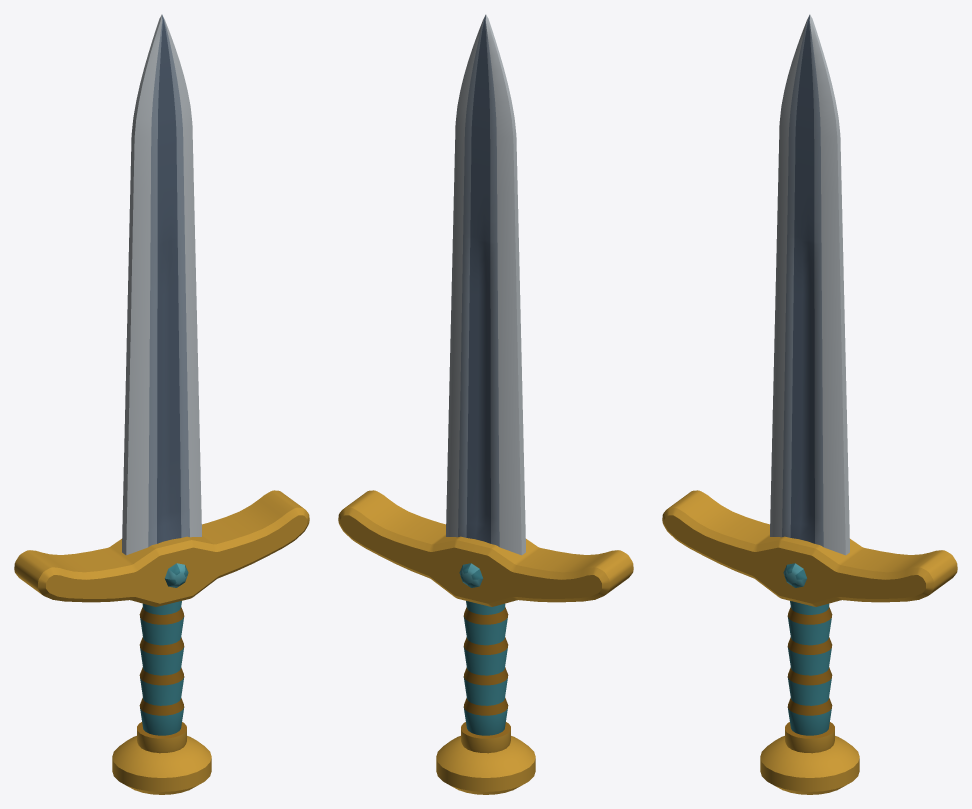
Rendered from Longsword_09.glb.
3 views of the same model, side by side, from view 1: azimuth 30°, elevation 25°; view 2: azimuth 150°, elevation 25°; view 3: azimuth 330°, elevation 25° (orthographic).
Parts seen in each view (by area): view 1: Longsword_09; view 2: Longsword_09; view 3: Longsword_09.
Boxes of the visible parts, <box> form: Longsword_09: <box>14,14,309,794</box>; Longsword_09: <box>338,14,633,794</box>; Longsword_09: <box>662,14,957,794</box>.
Size of the model in its own units: 2.44 by 6.56 by 0.7748.
